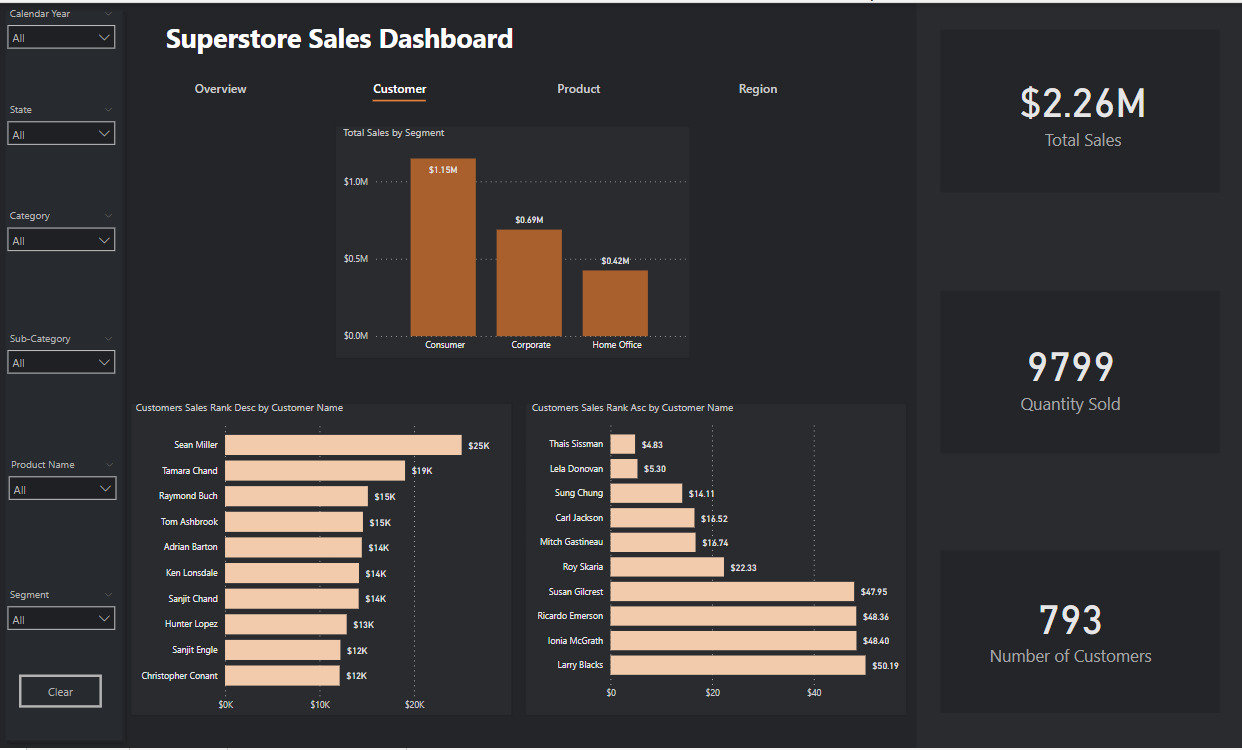

This screenshot's page, from the dashboard's own definition file:
{"tool":"powerbi","page":{"name":"Customer","canvas":[1500,900],"ordinal":1},"visuals":[{"type":"clusteredBarChart","fields":{"Category":["DIM-customers.Customer Name"],"Y":["FACT-sales.Customers Sales Rank Desc"]},"box":[159.3,481.2,463.5,383],"z":0},{"type":"columnChart","fields":{"Category":["DIM-customers.Segment"],"Y":["FACT-sales.Total Sales"]},"box":[410.4,149.7,423.3,281.7],"z":1000},{"type":"textbox","box":[196.7,16.7,508.3,228.3],"z":2000},{"type":"pageNavigator","box":[164.2,80.5,856.2,49.9],"z":3000},{"type":"shape","box":[450.6,37,64.4,162.6],"z":4000},{"type":"clusteredBarChart","fields":{"Category":["DIM-customers.Customer Name"],"Y":["FACT-sales.Customers Sales Rank Asc"]},"box":[637.3,481.2,463.5,370.2],"z":5000},{"type":"card","fields":{"Values":["FACT-sales.Total Sales"]},"box":[1131.4,30.6,350.9,198],"z":6000},{"type":"card","fields":{"Values":["DIM-orders.Quantity Sold"]},"box":[1117,347.6,350.9,198],"z":7000},{"type":"card","fields":{"Values":["FACT-sales.Number of Customers"]},"box":[1117,653.4,350.9,198],"z":8000},{"type":"slicer","fields":{"Values":["Date.Calendar Year"]},"box":[0,0,149.7,115.9],"z":9000},{"type":"slicer","fields":{"Values":["DIM-region.State"]},"box":[0,115.9,149.7,115.9],"z":10000},{"type":"slicer","fields":{"Values":["DIM-products.Category"]},"box":[0,244.6,149.7,115.9],"z":11000},{"type":"slicer","fields":{"Values":["DIM-products.Sub-Category"]},"box":[0,392.7,149.7,115.9],"z":12000},{"type":"slicer","fields":{"Values":["DIM-products.Product Name"]},"box":[1.6,544,149.7,115.9],"z":13000},{"type":"slicer","fields":{"Values":["DIM-customers.Segment"]},"box":[0,701.7,149.7,115.9],"z":14000},{"type":"actionButton","box":[24,810.9,99.9,39.9],"z":15000}]}

Visuals, with their boxes in screenshot pixels (x1, y1, x2, y2), scaled from the page's 1500x900 canvas onto the 1242x750 screenshot:
clusteredBarChart - DIM-customers.Customer Name x FACT-sales.Customers Sales Rank Desc: 132 401 516 720
columnChart - DIM-customers.Segment x FACT-sales.Total Sales: 340 125 690 360
textbox: 163 14 584 204
pageNavigator: 136 67 845 109
shape: 373 31 426 166
clusteredBarChart - DIM-customers.Customer Name x FACT-sales.Customers Sales Rank Asc: 528 401 911 710
card - FACT-sales.Total Sales: 937 26 1227 190
card - DIM-orders.Quantity Sold: 925 290 1215 455
card - FACT-sales.Number of Customers: 925 544 1215 710
slicer - Date.Calendar Year: 0 0 124 97
slicer - DIM-region.State: 0 97 124 193
slicer - DIM-products.Category: 0 204 124 300
slicer - DIM-products.Sub-Category: 0 327 124 424
slicer - DIM-products.Product Name: 1 453 125 550
slicer - DIM-customers.Segment: 0 585 124 681
actionButton: 20 676 103 709
